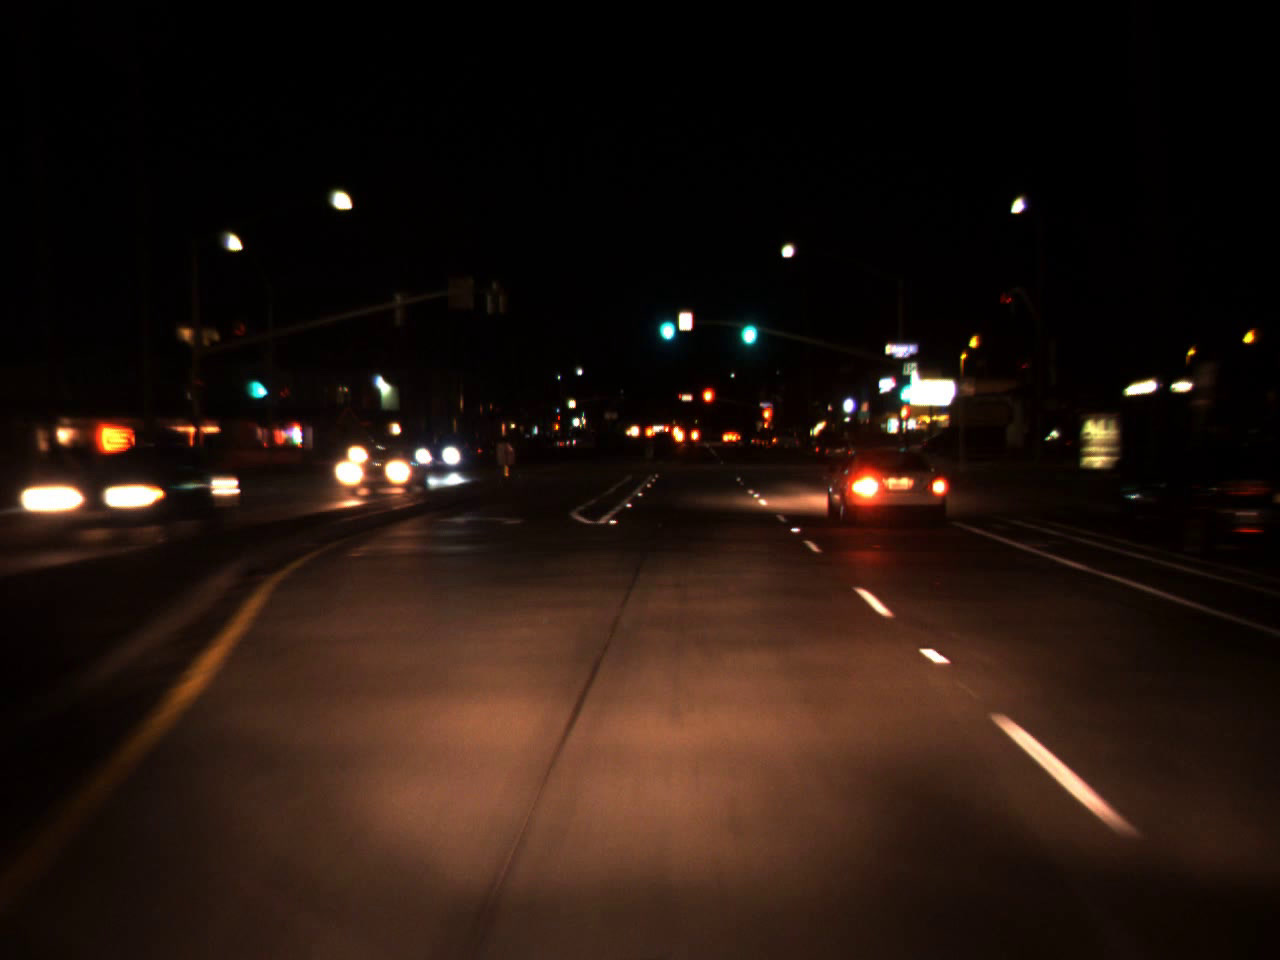go: (735, 299, 760, 353), (654, 299, 677, 347), (248, 362, 264, 404), (893, 373, 912, 406)
stop: (700, 384, 716, 421), (762, 405, 774, 437)
